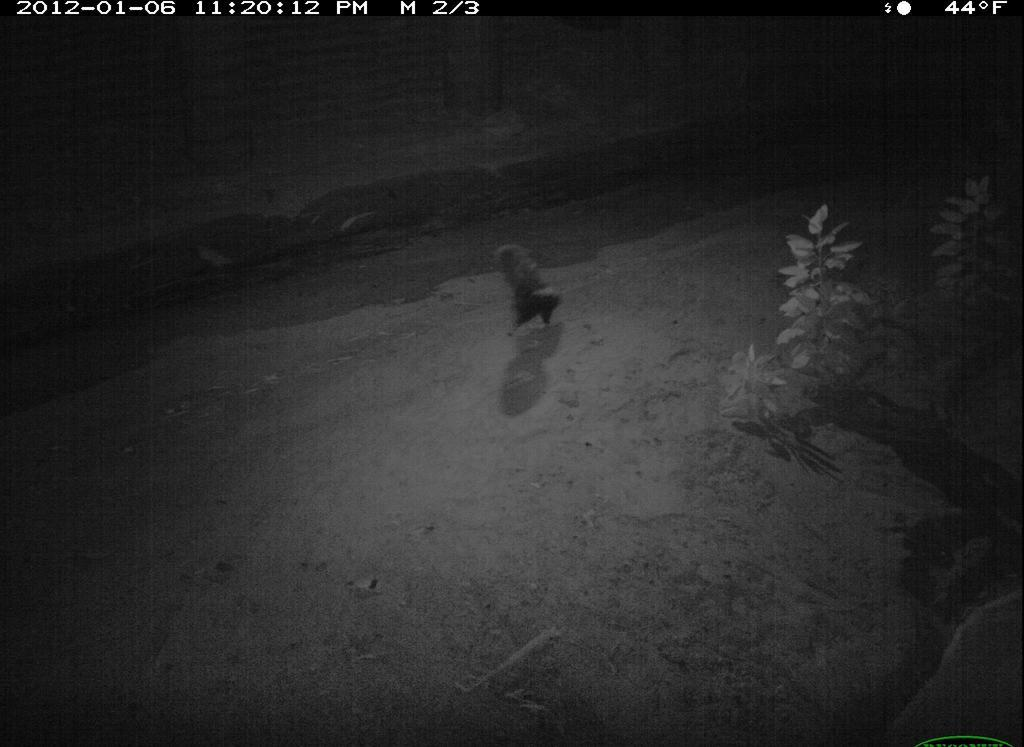skunk: (487, 232, 569, 350)
